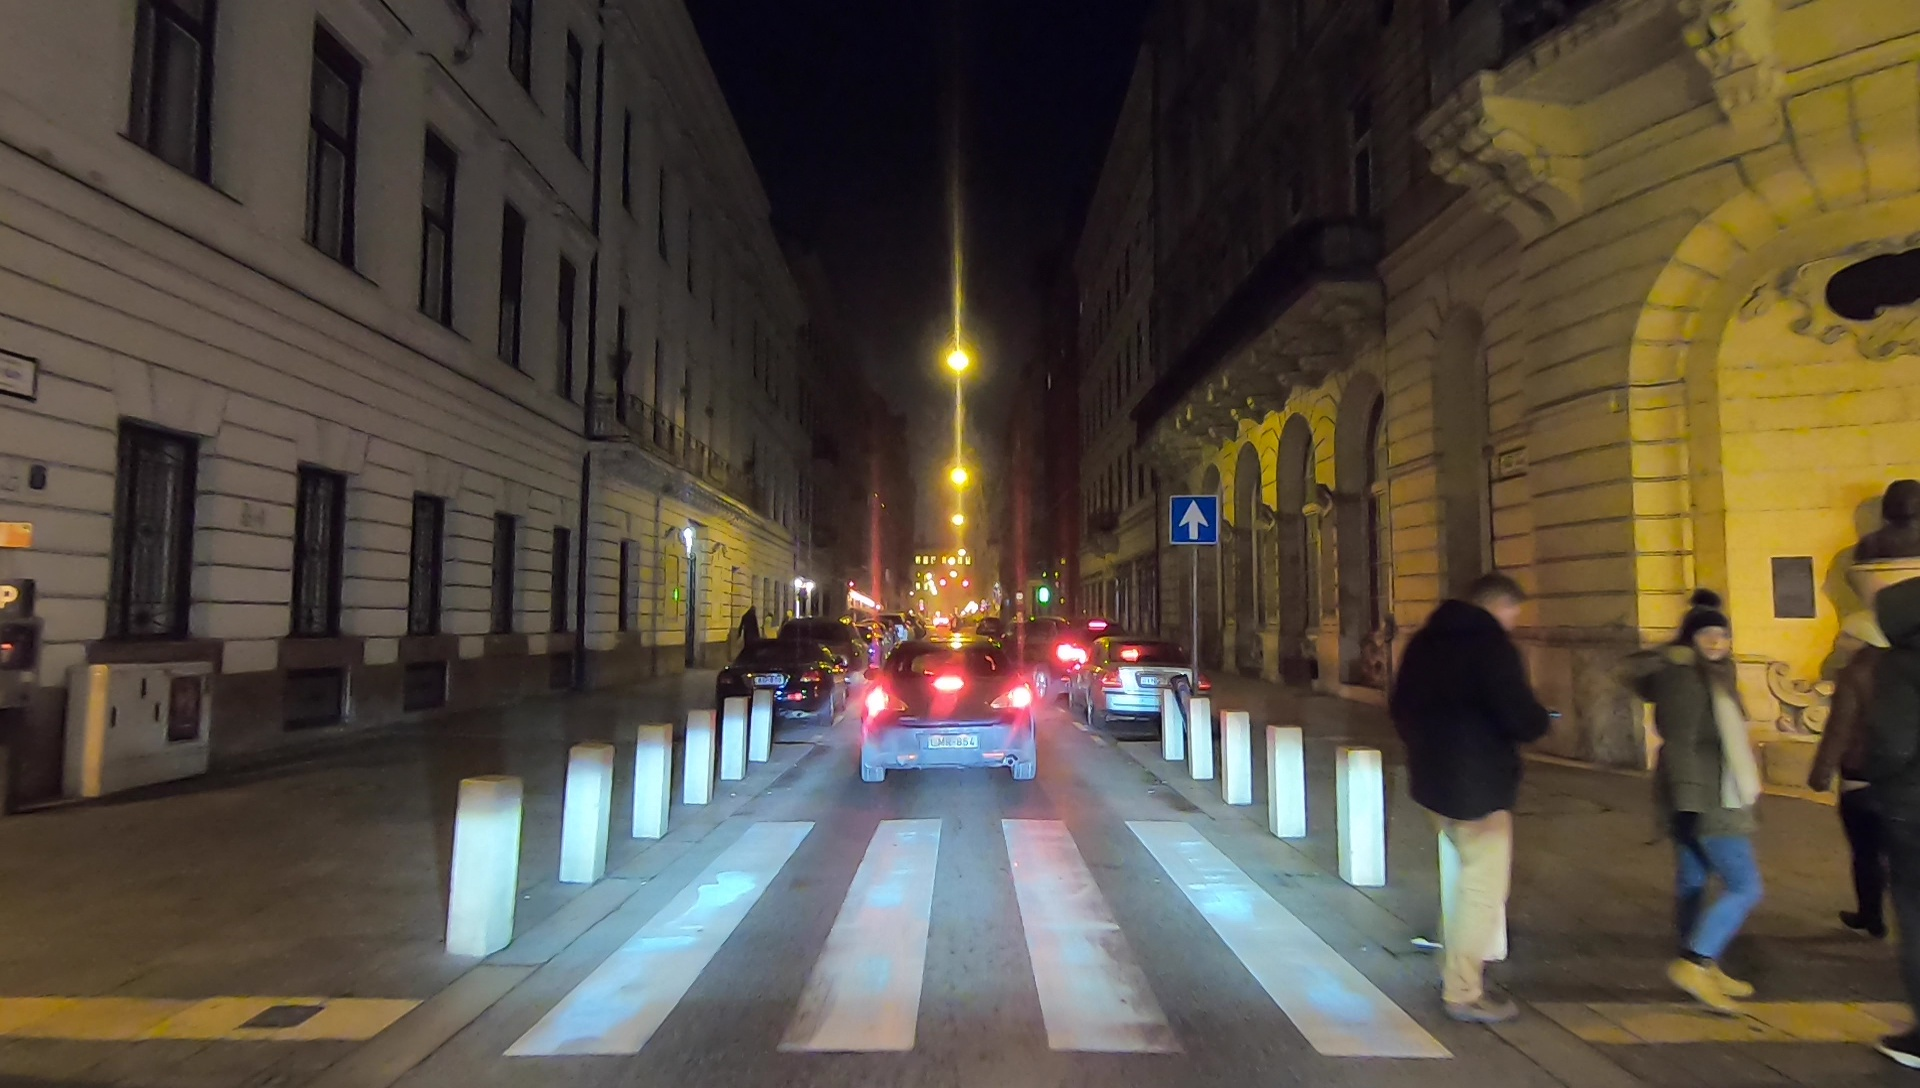person: (1380, 578, 1541, 1023), (1625, 600, 1762, 1015), (1875, 573, 1920, 1064), (1832, 587, 1888, 945), (734, 606, 762, 661)
